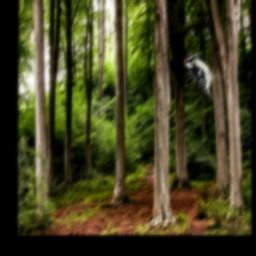Woodpecker: (183, 53, 223, 100)
